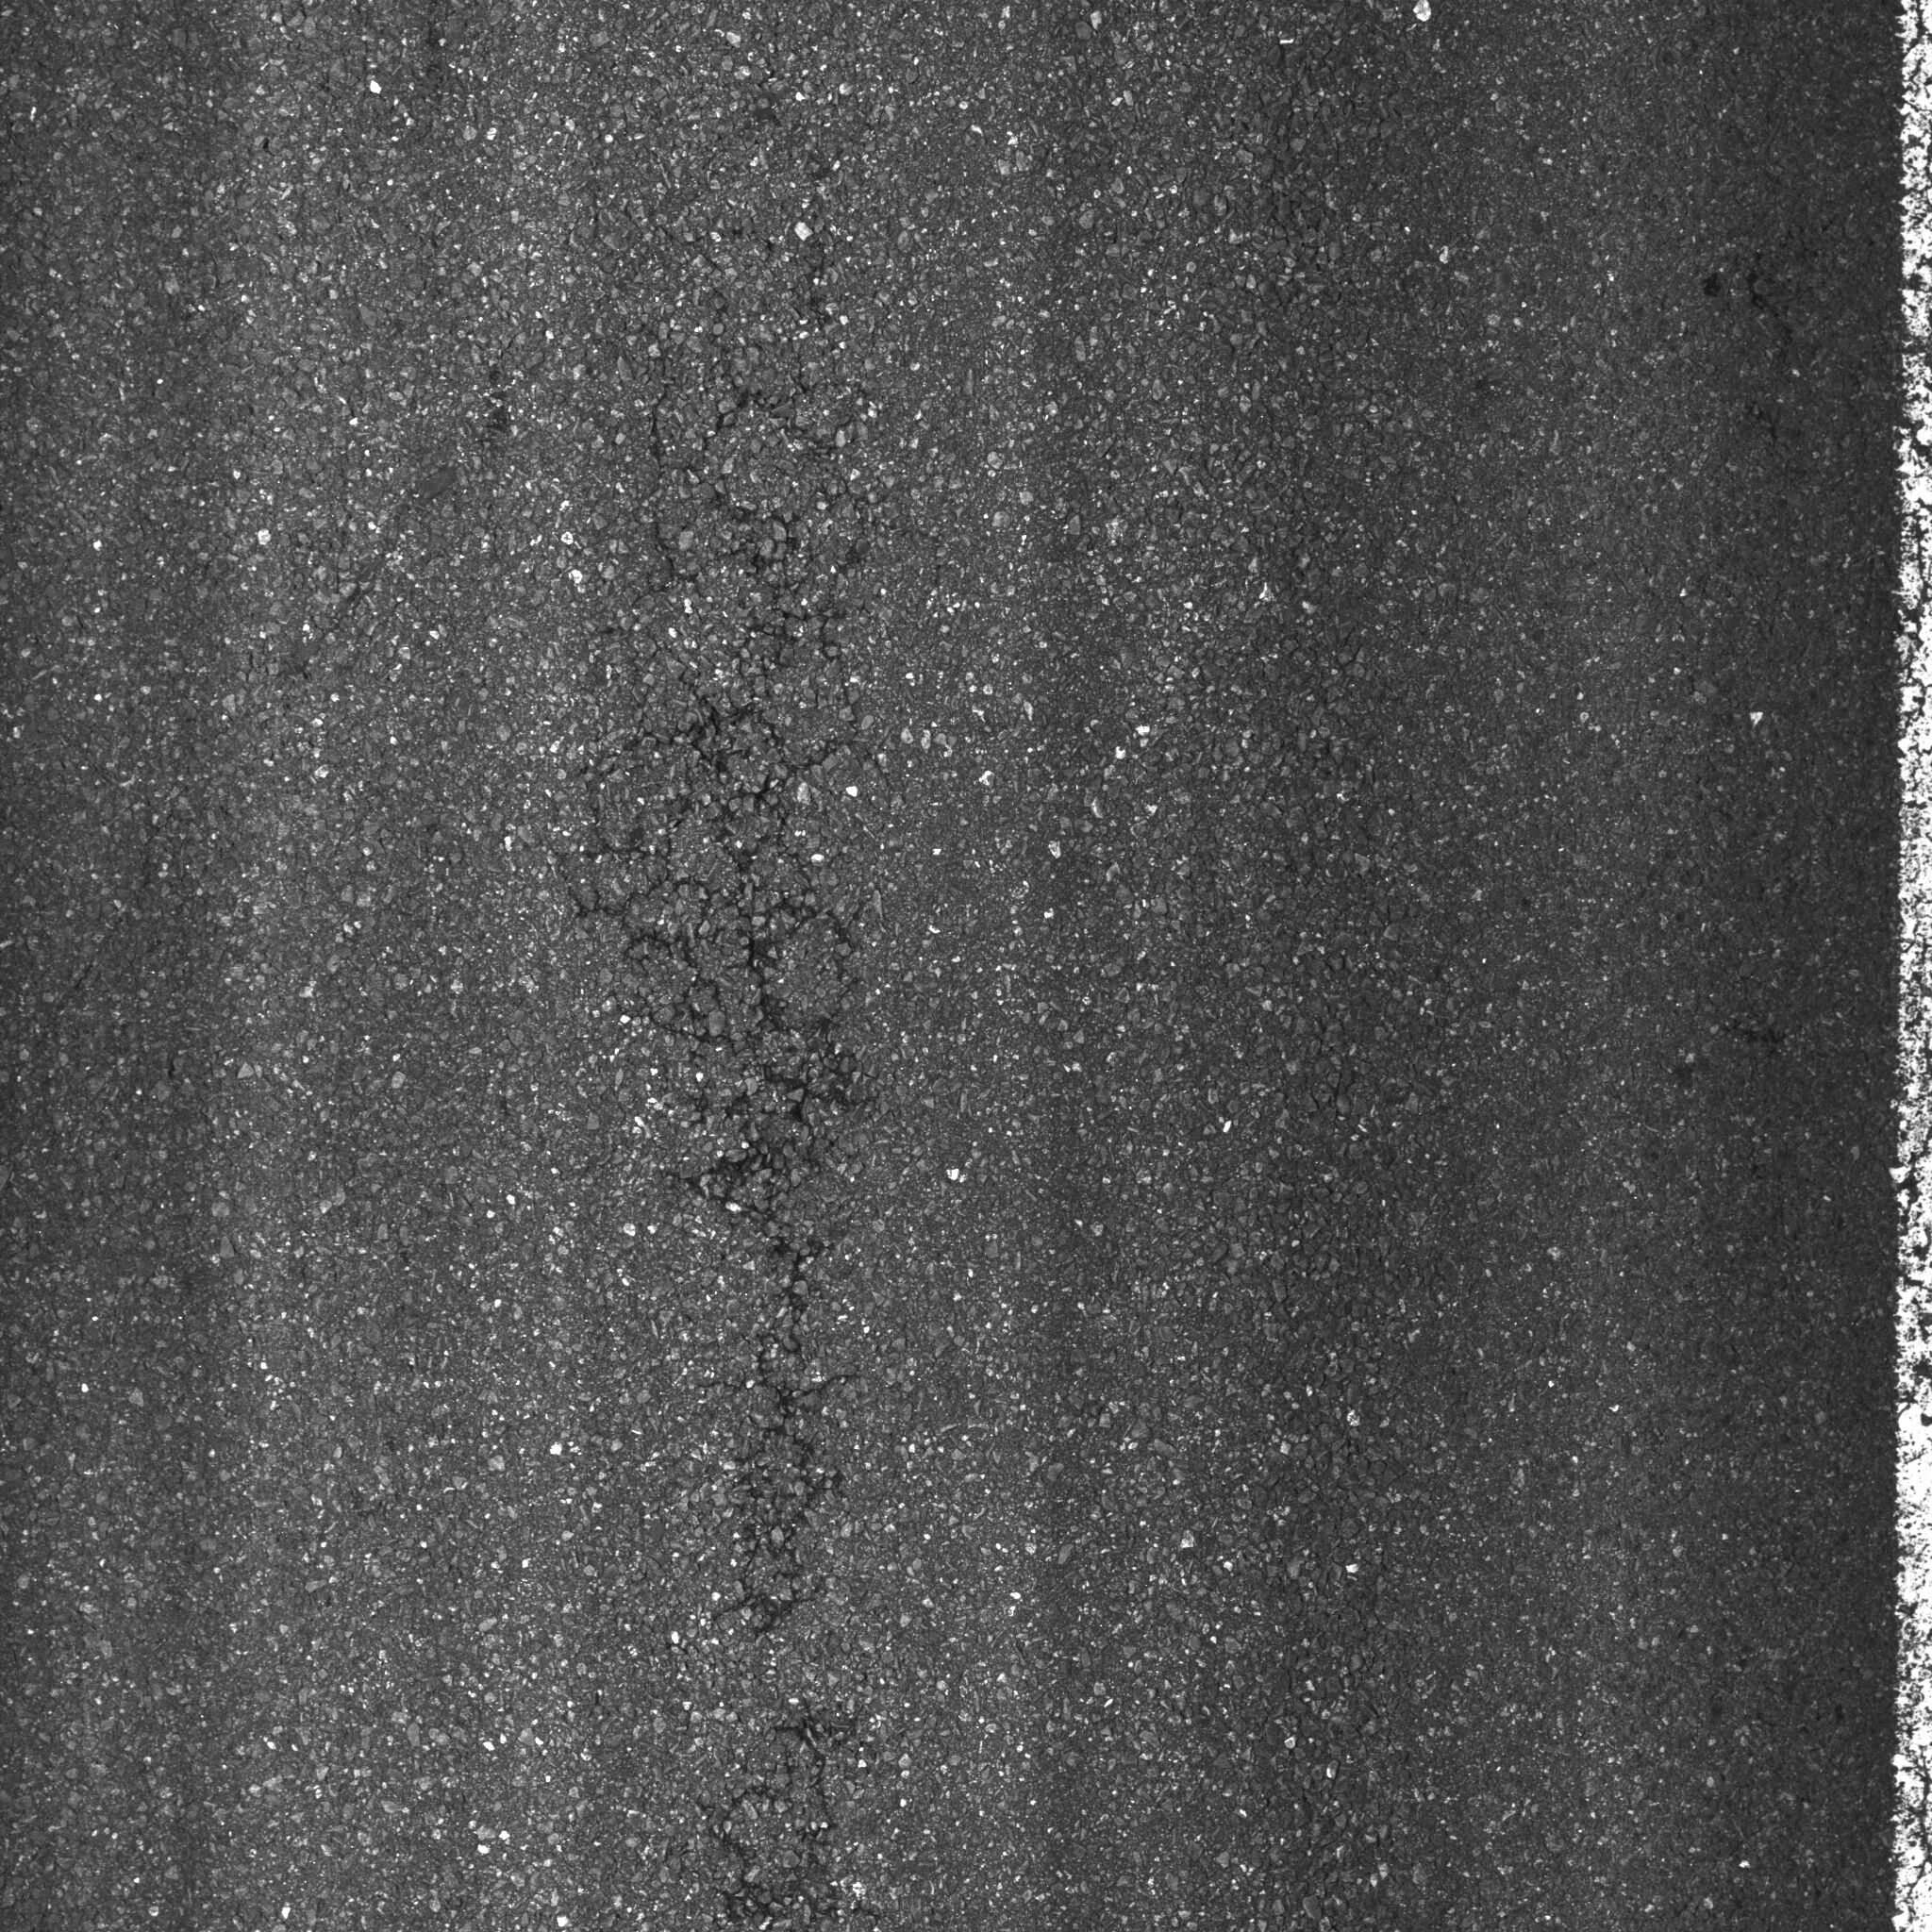alligator: (513, 340, 941, 1679)
